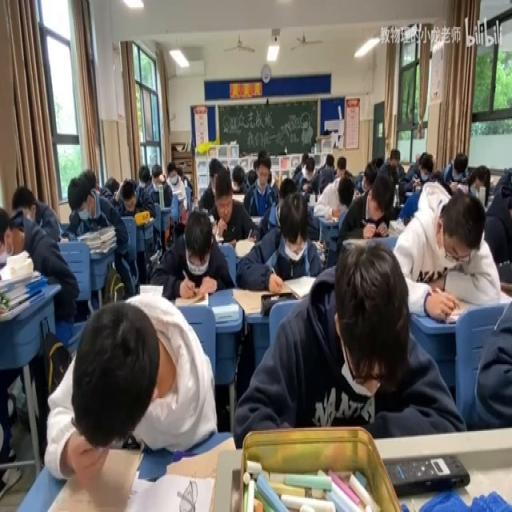calculator: (130, 471, 215, 509), (162, 434, 233, 479), (231, 286, 292, 314), (0, 291, 38, 321), (0, 266, 40, 292), (283, 273, 316, 297), (174, 290, 208, 307), (212, 302, 238, 324), (234, 238, 256, 258), (312, 239, 327, 264), (210, 219, 226, 240), (138, 283, 163, 296), (342, 238, 368, 248), (386, 218, 402, 234), (498, 282, 512, 297), (216, 238, 236, 248), (148, 248, 160, 264), (323, 214, 341, 224), (157, 184, 164, 208), (306, 196, 315, 214), (250, 215, 262, 226), (232, 193, 246, 202), (353, 189, 362, 198), (404, 191, 414, 199), (59, 236, 69, 243), (208, 214, 215, 224)
paper: (232, 240, 458, 442), (44, 288, 218, 480), (391, 182, 500, 312), (1, 202, 42, 474), (66, 168, 133, 306), (237, 191, 323, 287), (151, 206, 232, 299), (471, 286, 512, 429), (334, 168, 396, 259), (10, 184, 60, 240), (483, 172, 512, 267), (144, 161, 170, 243), (196, 155, 227, 216), (400, 148, 438, 196), (292, 154, 321, 194), (465, 164, 490, 204), (442, 150, 468, 188), (382, 150, 404, 184), (95, 170, 115, 200), (166, 174, 186, 204), (336, 176, 354, 206), (230, 164, 246, 194), (359, 164, 376, 192), (253, 151, 272, 175), (278, 176, 296, 200), (83, 168, 97, 193), (121, 186, 134, 209), (138, 164, 151, 186), (246, 166, 258, 186), (182, 172, 193, 191), (371, 155, 384, 169), (336, 156, 346, 174), (175, 164, 184, 180), (325, 154, 334, 169), (301, 151, 308, 168), (429, 155, 436, 171), (210, 174, 218, 186), (415, 151, 421, 162), (266, 174, 271, 184)
person: (384, 452, 470, 494)
